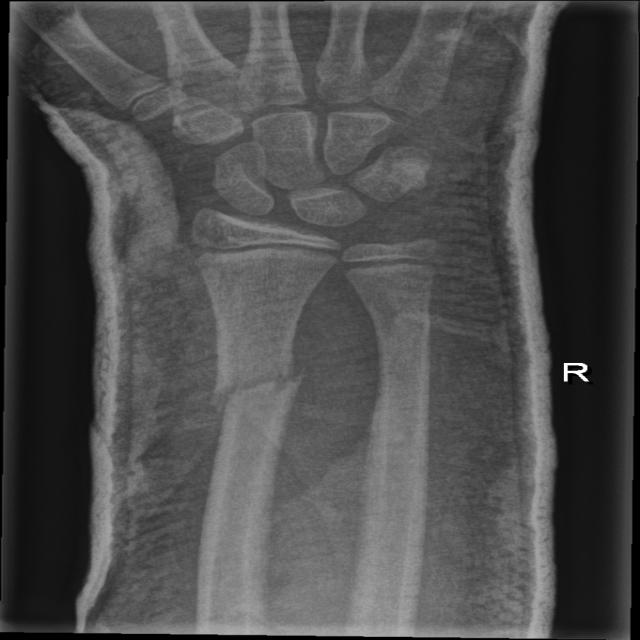radius fracture: (189, 323, 355, 516)
